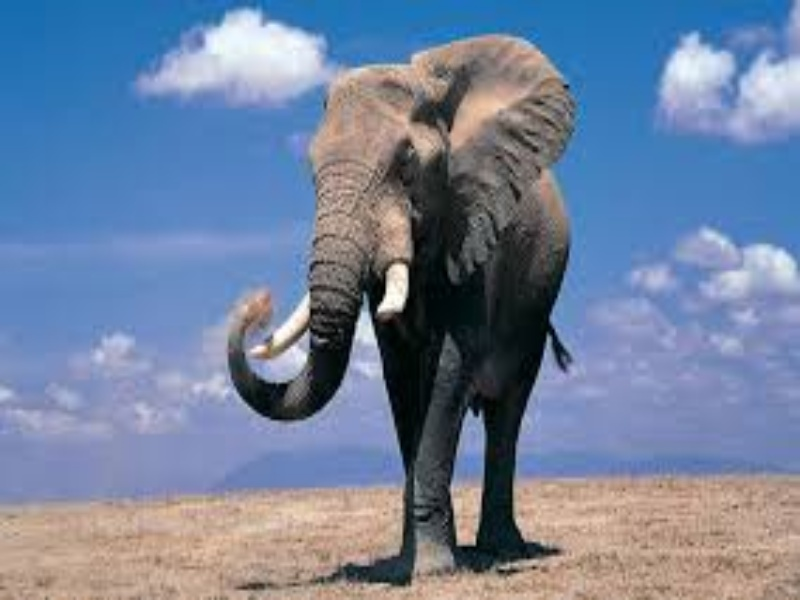elephant: (197, 34, 617, 588)
